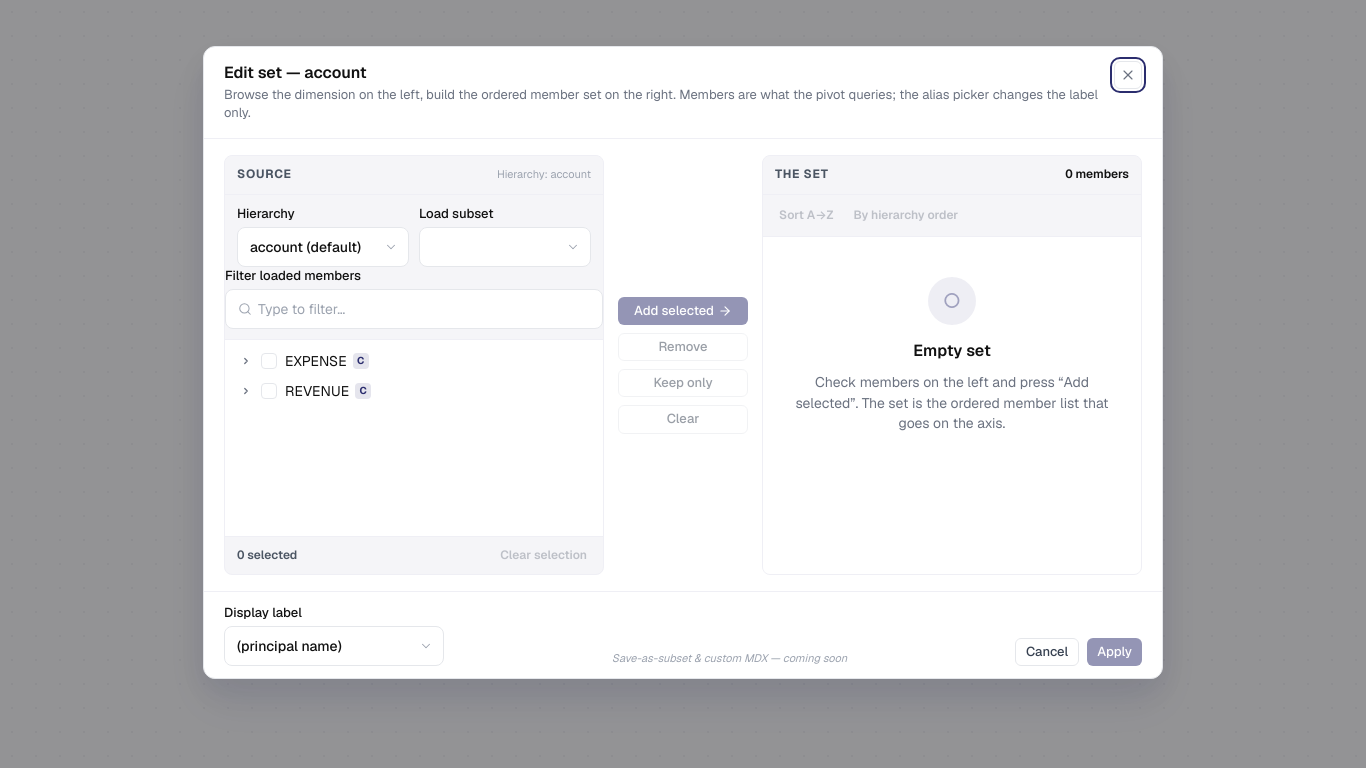
Scenario: SetEditor — search filter › a no-match filter shows the "No matches" empty state
Type "zzz-not-a-member" into the field named "Filter the loaded source members".
click(424, 309); type("zzz-not-a-member")  # box [258,299,590,319]
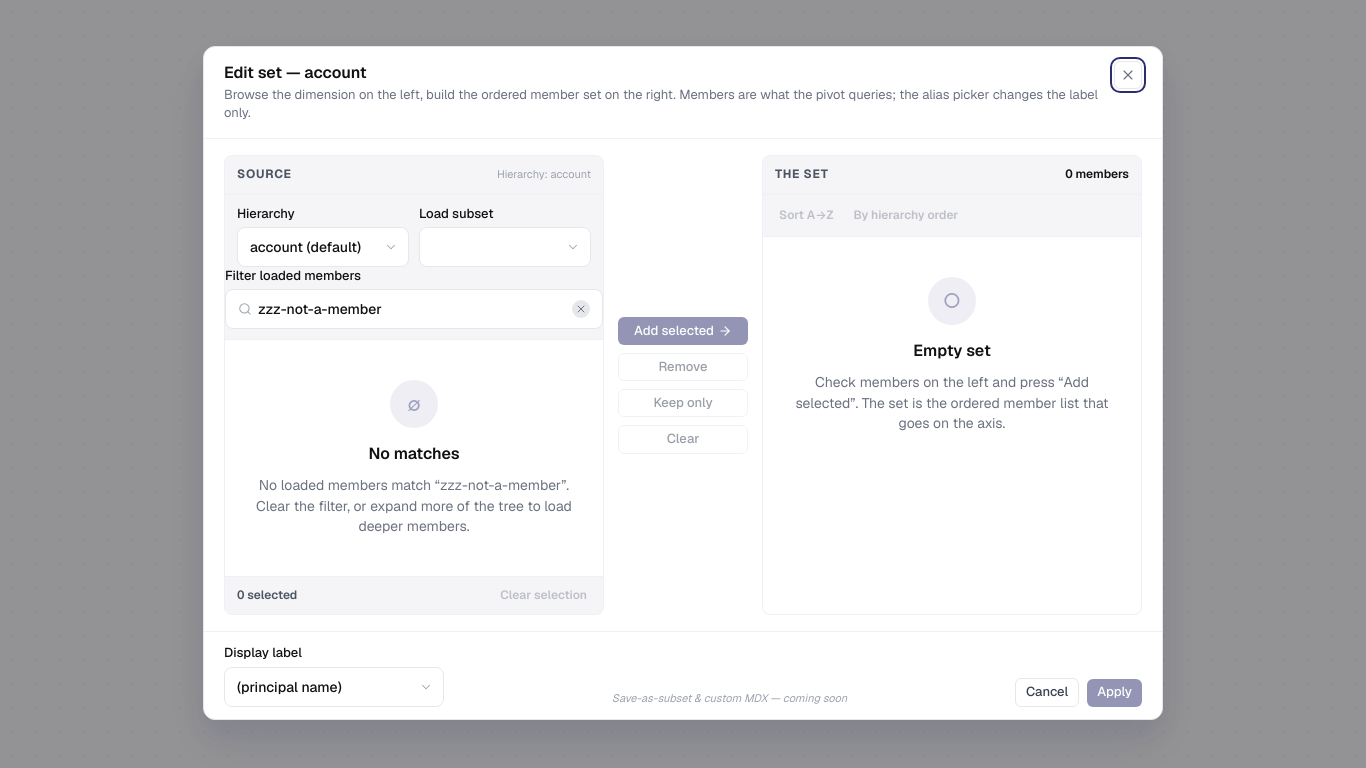
Result: the text "No matches" is shown at [368,442,460,465]
